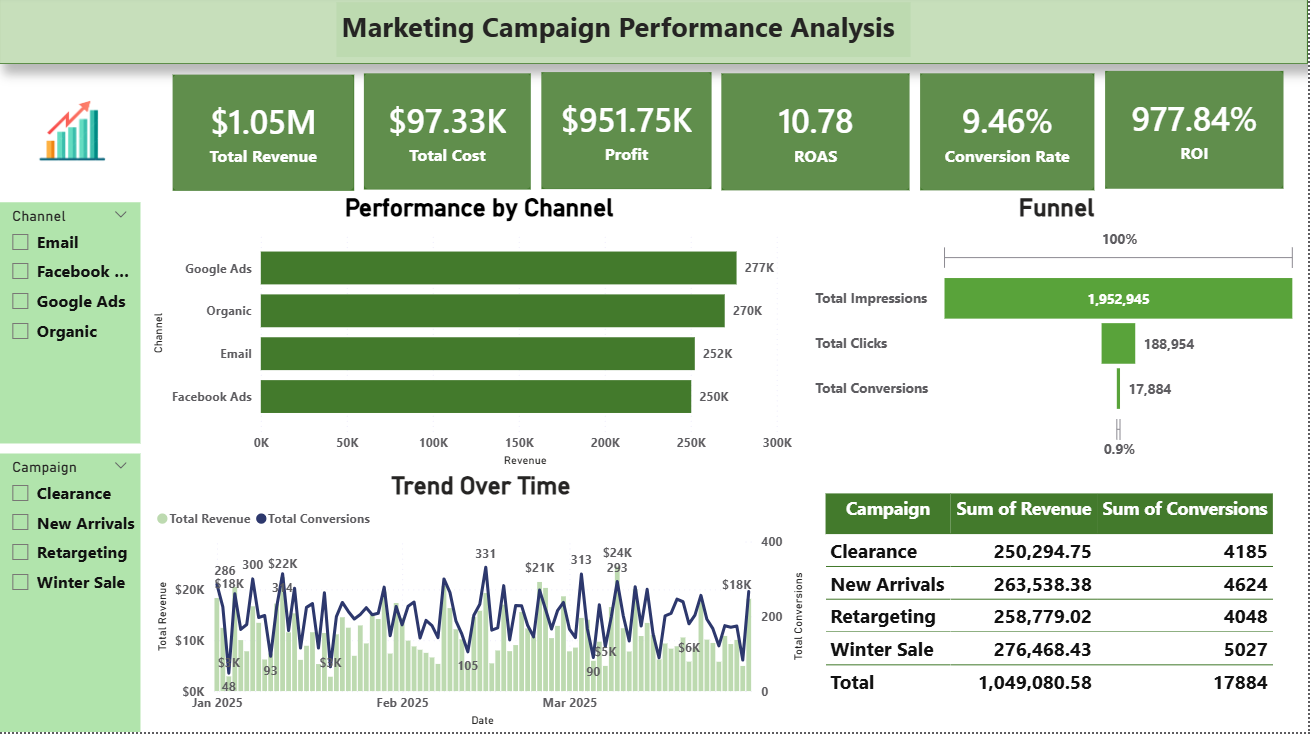

This screenshot's page, from the dashboard's own definition file:
{"tool":"powerbi","page":{"name":"Page 1","canvas":[1280,720],"ordinal":0},"visuals":[{"type":"shape","box":[0,0,1280.5,66.6],"z":0},{"type":"cardVisual","fields":{"Data":["marketing_campaign_dataset.Total Revenue"]},"box":[165.3,71.9,187.1,123.5],"z":1000},{"type":"cardVisual","fields":{"Data":["marketing_campaign_dataset.Total Cost"]},"box":[352.4,70.7,173.6,123.5],"z":2000},{"type":"cardVisual","fields":{"Data":["marketing_campaign_dataset.ROAS"]},"box":[702.2,70.7,194.4,124.7],"z":3000},{"type":"cardVisual","fields":{"Data":["marketing_campaign_dataset.CVR"]},"box":[896.6,70.7,181,124.7],"z":4000},{"type":"barChart","title":"Performance by Channel","fields":{"Category":["marketing_campaign_dataset.Channel"],"Y":["Sum(marketing_campaign_dataset.Revenue)"]},"box":[145,192.8,648.4,271.9],"z":5000},{"type":"tableEx","title":"Campaign Analysis","fields":{"Values":["marketing_campaign_dataset.Campaign","Sum(marketing_campaign_dataset.Revenue)","Sum(marketing_campaign_dataset.Conversions)"]},"box":[802.2,481.9,473.2,220.1],"z":6000},{"type":"lineClusteredColumnComboChart","title":"Trend Over Time","fields":{"Category":["Dim_Date.Date"],"Y":["marketing_campaign_dataset.Total Revenue"],"Y2":["marketing_campaign_dataset.Total Conversions"]},"box":[148.9,464.7,644.6,255.3],"z":7000},{"type":"funnel","title":"Funnel","fields":{"Y":["marketing_campaign_dataset.Total Impressions","marketing_campaign_dataset.Total Clicks","marketing_campaign_dataset.Total Conversions"]},"box":[793.6,193.2,481.8,266.6],"z":8000},{"type":"textbox","box":[330.2,6.1,561.3,53.8],"z":9000},{"type":"cardVisual","fields":{"Data":["marketing_campaign_dataset.Profit"]},"box":[526.1,69.5,176.1,124.7],"z":10000},{"type":"cardVisual","fields":{"Data":["marketing_campaign_dataset.ROI"]},"box":[1077.6,68.2,184.6,126],"z":11000},{"type":"slicer","fields":{"Values":["marketing_campaign_dataset.Channel"]},"box":[0,201.8,138.2,236],"z":12000},{"type":"slicer","fields":{"Values":["marketing_campaign_dataset.Campaign"]},"box":[0,447.6,138.2,272.7],"z":13000},{"type":"image","box":[6.6,93.7,132,75.2],"z":14000}]}

Visuals, with their boxes in screenshot pixels (x1, y1, x2, y2), scaled from the page's 1280x720 canvas onto the 1311x734 screenshot:
shape: bbox=[0, 0, 1310, 68]
cardVisual - marketing_campaign_dataset.Total Revenue: bbox=[169, 73, 361, 199]
cardVisual - marketing_campaign_dataset.Total Cost: bbox=[361, 72, 539, 198]
cardVisual - marketing_campaign_dataset.ROAS: bbox=[719, 72, 918, 199]
cardVisual - marketing_campaign_dataset.CVR: bbox=[918, 72, 1104, 199]
"Performance by Channel" barChart: bbox=[149, 197, 813, 474]
"Campaign Analysis" tableEx: bbox=[822, 491, 1306, 716]
"Trend Over Time" lineClusteredColumnComboChart: bbox=[153, 474, 813, 733]
"Funnel" funnel: bbox=[813, 197, 1306, 469]
textbox: bbox=[338, 6, 913, 61]
cardVisual - marketing_campaign_dataset.Profit: bbox=[539, 71, 719, 198]
cardVisual - marketing_campaign_dataset.ROI: bbox=[1104, 70, 1293, 198]
slicer - marketing_campaign_dataset.Channel: bbox=[0, 206, 142, 446]
slicer - marketing_campaign_dataset.Campaign: bbox=[0, 456, 142, 733]
image: bbox=[7, 96, 142, 172]
